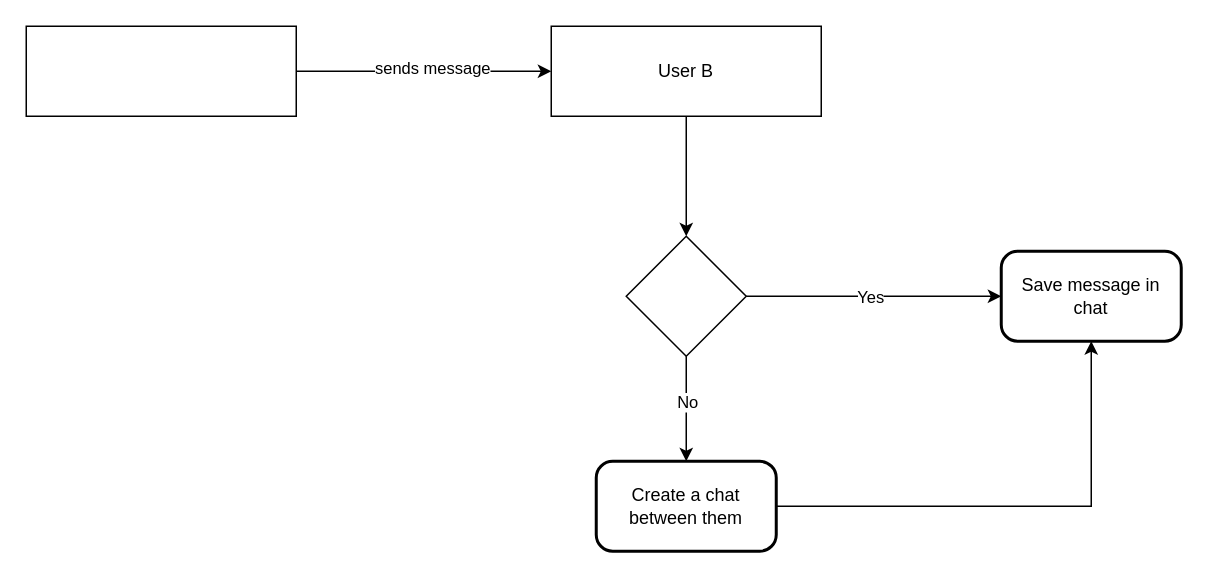
This 1209x579 diagram has some shape labels left out. The shapes that lost their labels are listed below. From the top down, each one's box as (x1, y1, x2, y2) in pixels, then its label:
(25, 25, 296, 116): User A
(625, 235, 746, 356): Exists chat?
